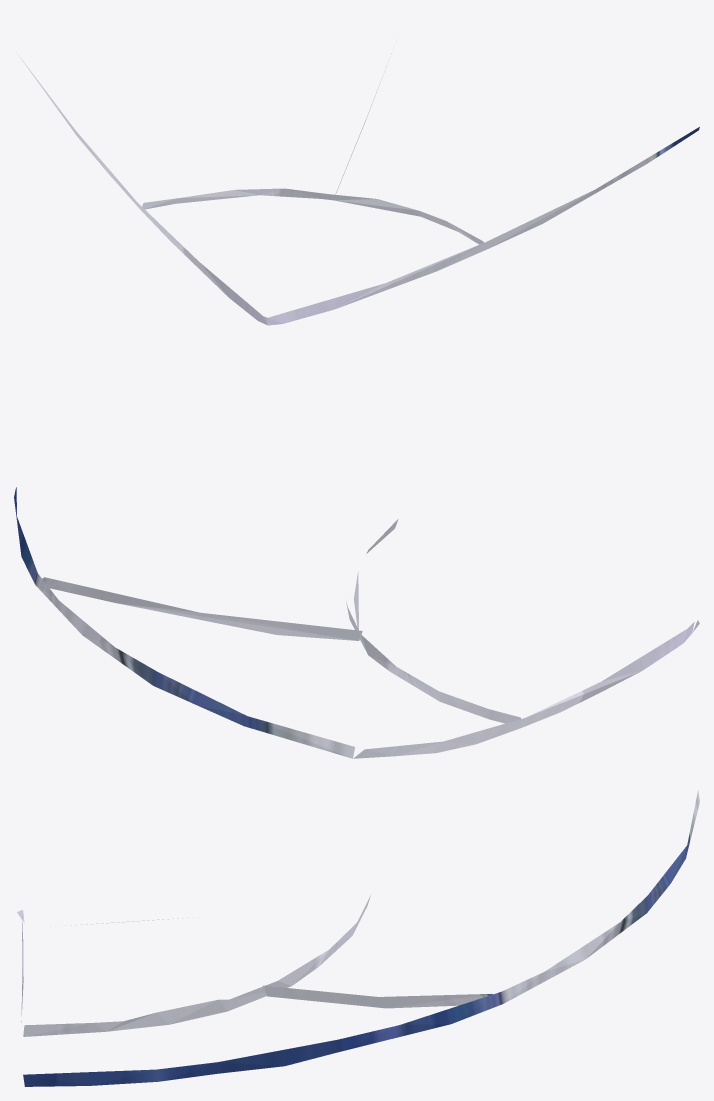
3 renders of one model, top to bottom at view 1: azimuth 30°, elevation 25°; view 2: azimuth 150°, elevation 25°; view 3: azimuth 270°, elevation 25°, orthographic. The views are drawn at different scales.
Size of the model in its own units: 2492263 by 553759 by 2492263.
Materials: 1 (1 with a texture image).
